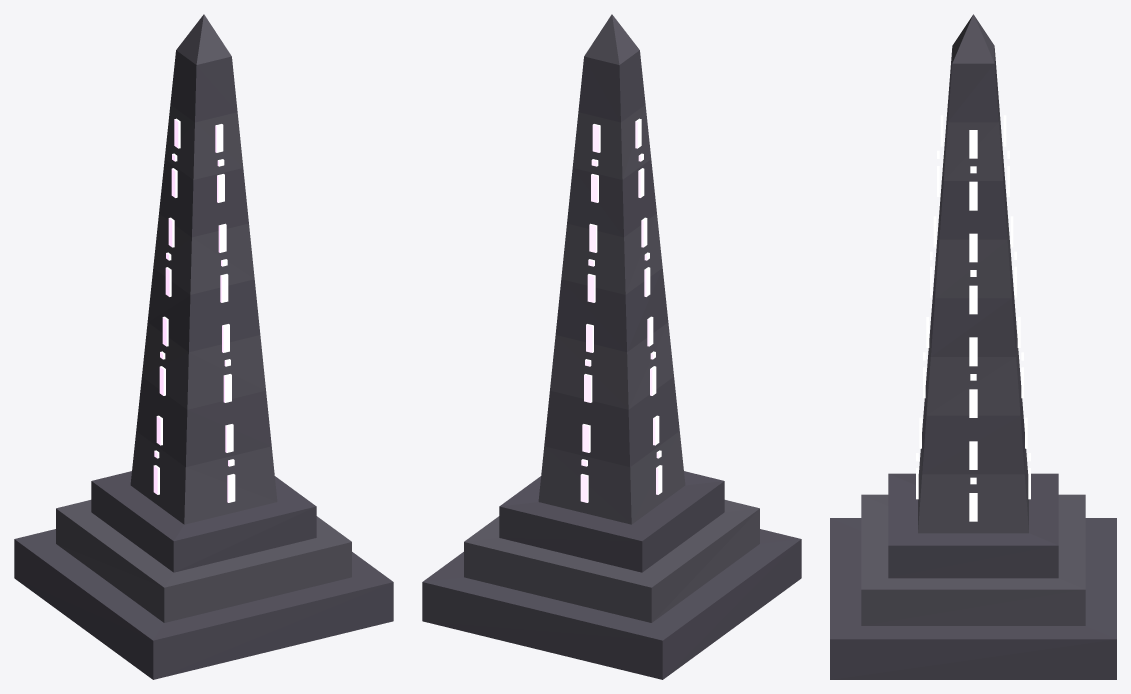
Rendered from echo_obelisk.glb.
The picture shows the model from 3 angles, left to right: view 1: azimuth 30°, elevation 25°; view 2: azimuth 150°, elevation 25°; view 3: azimuth 270°, elevation 25°; orthographic projection. The views are drawn at different scales.
Visible parts, largest first — view 1: EchoObelisk; view 2: EchoObelisk; view 3: EchoObelisk.
Part boxes in pixels (x1,y1,x2,y2): EchoObelisk: (14, 14, 393, 679); EchoObelisk: (422, 14, 801, 679); EchoObelisk: (830, 14, 1116, 679).
Size of the model in its own units: 3.2 by 7.45 by 3.2.
